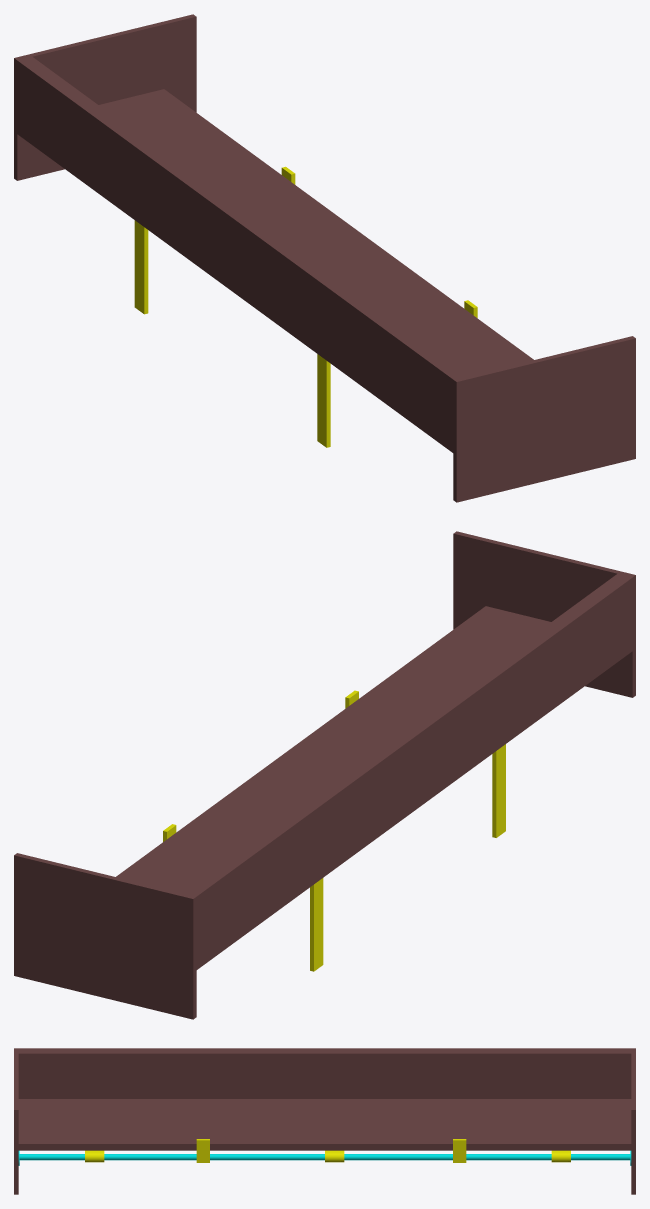
File: BotAssets066.fbx
3 renders of one model, top to bottom at view 1: azimuth 30°, elevation 25°; view 2: azimuth 150°, elevation 25°; view 3: azimuth 270°, elevation 25°, orthographic. The views are drawn at different scales.
Visible parts, largest first — view 1: BotAssets066; view 2: BotAssets066; view 3: BotAssets066.
Part boxes in pixels (x1,y1,x2,y2): BotAssets066: (14, 14, 635, 502); BotAssets066: (14, 531, 635, 1019); BotAssets066: (14, 1048, 635, 1194).
Size of the model in its own units: 32.13 by 27.58 by 137.
